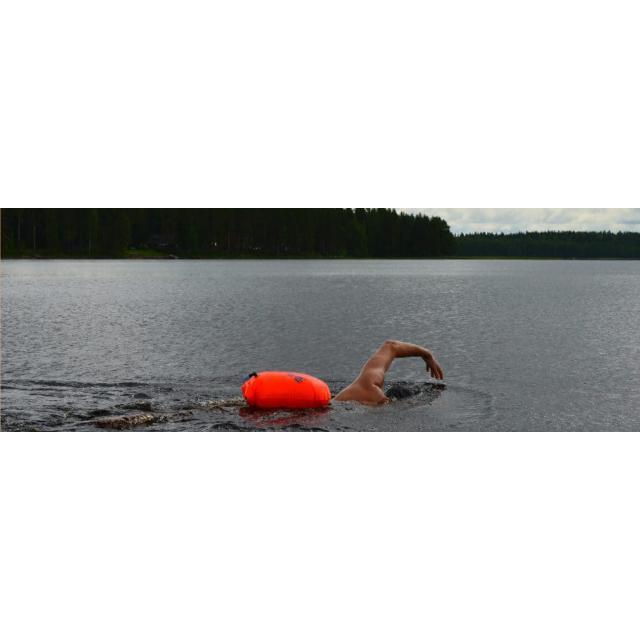human: (333, 337, 448, 409)
